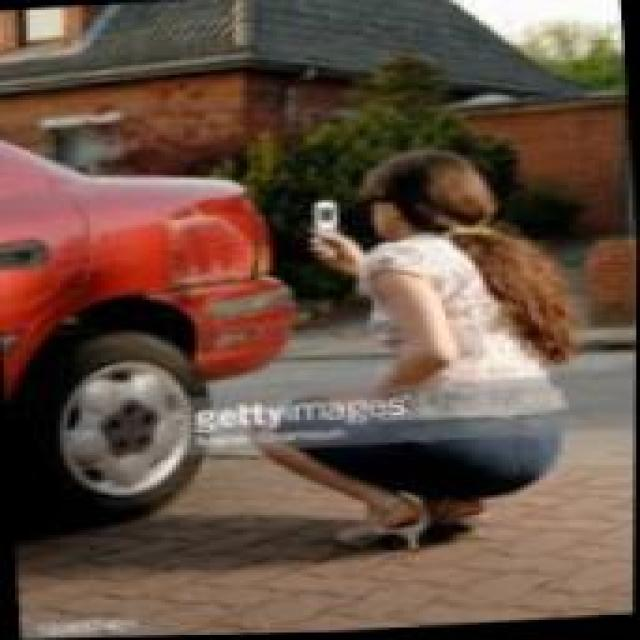Bumper: (172, 288, 296, 377)
Fender: (97, 180, 304, 296)
